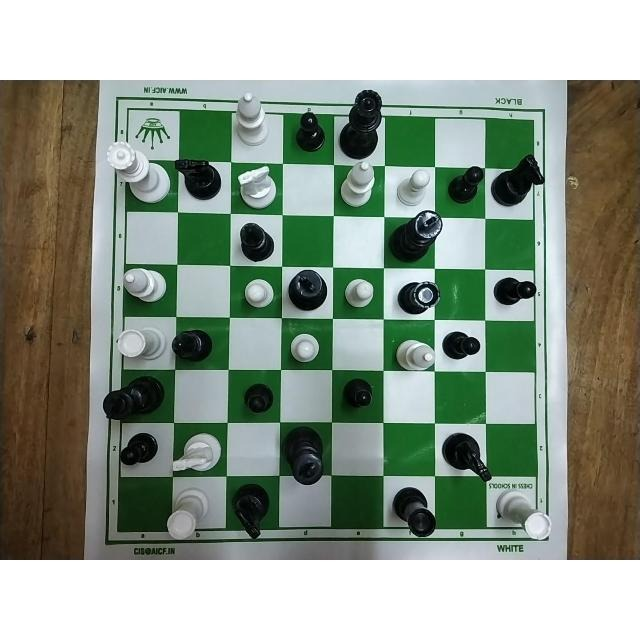black-bishop: (237, 221, 274, 263), (170, 328, 213, 364)
black-king: (389, 209, 443, 264), (280, 424, 328, 485), (101, 376, 166, 420), (288, 269, 328, 311)
black-knight: (489, 155, 544, 209), (440, 431, 492, 484), (231, 483, 273, 541), (173, 157, 222, 205)
black-pawn: (447, 166, 485, 208), (493, 274, 537, 308), (441, 328, 481, 364), (118, 431, 157, 466), (291, 112, 324, 151), (340, 377, 375, 413), (241, 382, 275, 416)
black-queen: (339, 88, 383, 157)
black-rook: (391, 487, 435, 537), (396, 278, 440, 315)
white-bishop: (234, 91, 270, 146), (120, 267, 167, 306), (339, 161, 373, 209), (393, 338, 437, 374)
white-knight: (171, 431, 225, 473), (232, 164, 280, 209)
white-pawn: (395, 168, 430, 207), (240, 276, 274, 309), (342, 276, 375, 309), (287, 330, 319, 364)
white-queen: (104, 138, 172, 204)
white-rook: (496, 487, 552, 541), (166, 486, 210, 538), (114, 325, 167, 359)
